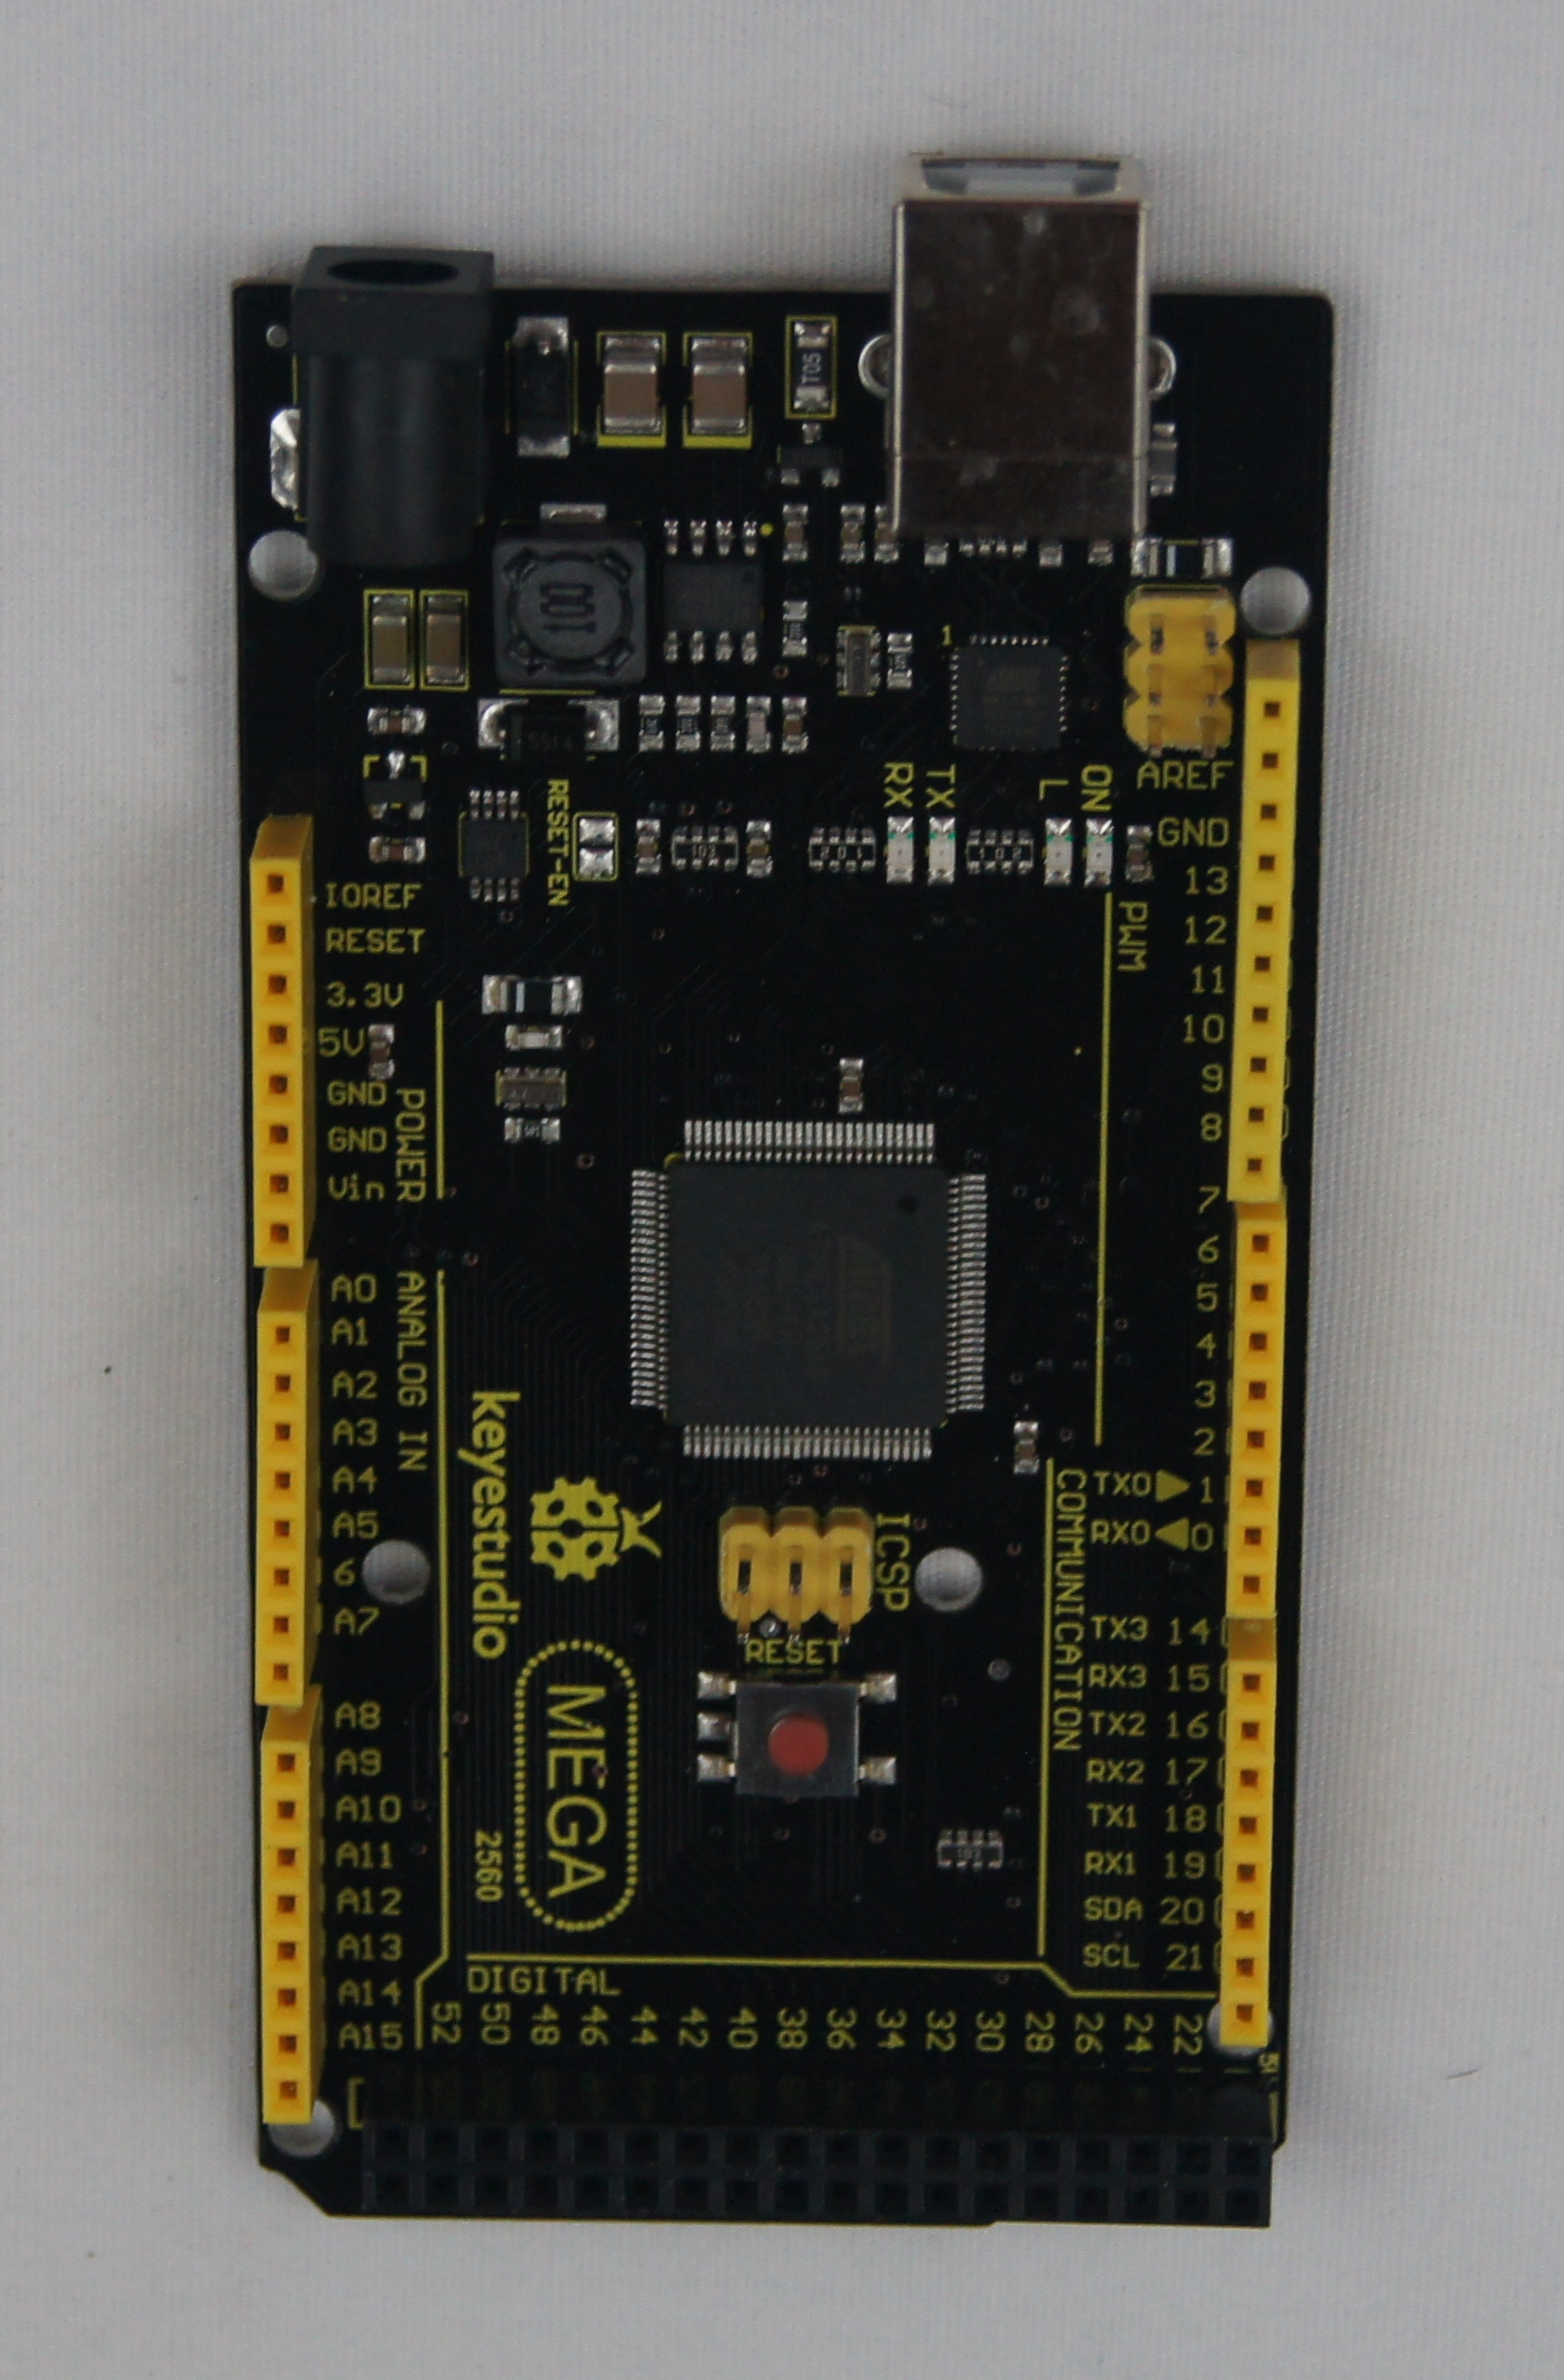connector: (354, 2090, 1271, 2232), (290, 239, 496, 574), (1229, 658, 1297, 1203), (237, 840, 311, 1273), (253, 1723, 325, 2127), (250, 1292, 318, 1708), (1225, 1203, 1288, 1622), (1217, 1634, 1274, 2046), (712, 1503, 875, 1647), (1128, 590, 1238, 767)
